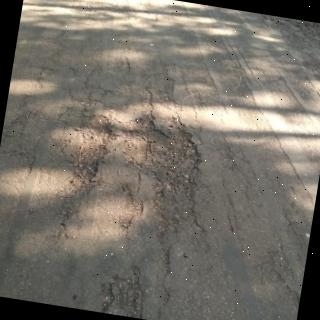pothole: (67, 113, 202, 241)
